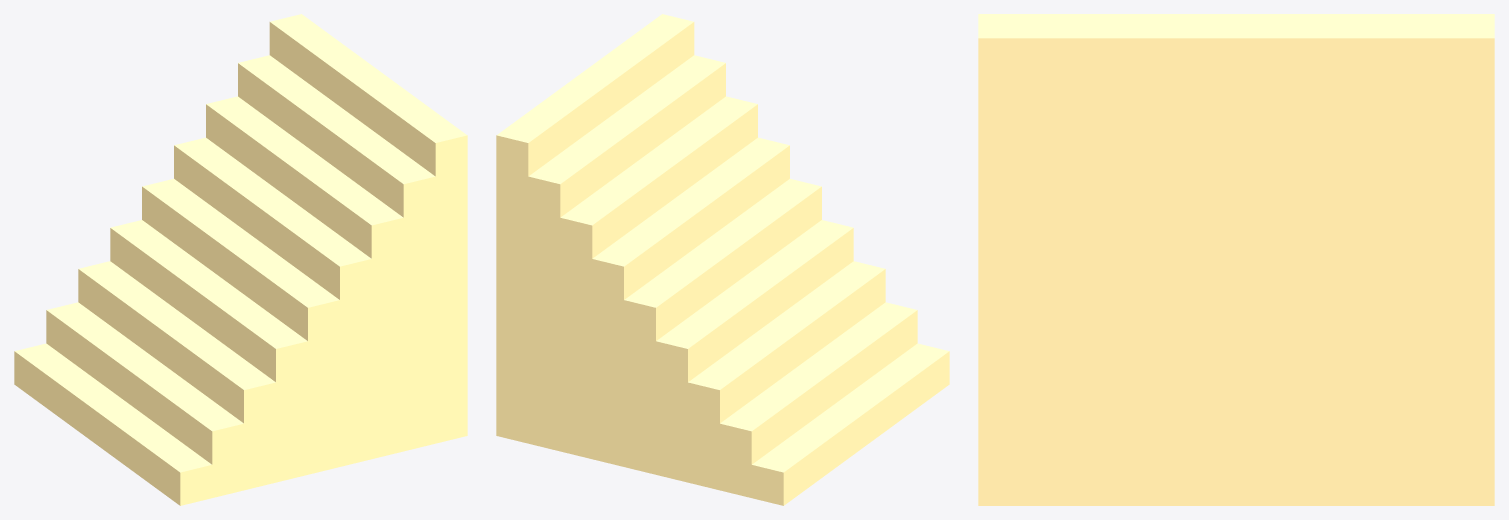
File: steps_extra_large.glb
3 renders of one model, left to right at view 1: azimuth 30°, elevation 25°; view 2: azimuth 150°, elevation 25°; view 3: azimuth 270°, elevation 25°, orthographic. The views are drawn at different scales.
Parts seen in each view (by area): view 1: StepsExtraLarge_Step8-convcol, StepsExtraLarge_Step7-convcol, StepsExtraLarge_Step6-convcol, StepsExtraLarge_Step5-convcol, StepsExtraLarge_Step4-convcol, StepsExtraLarge_Step3-convcol, StepsExtraLarge_Step2-convcol, StepsExtraLarge_Step1-convcol, StepsExtraLarge_Step0-convcol; view 2: StepsExtraLarge_Step8-convcol, StepsExtraLarge_Step7-convcol, StepsExtraLarge_Step6-convcol, StepsExtraLarge_Step5-convcol, StepsExtraLarge_Step4-convcol, StepsExtraLarge_Step3-convcol, StepsExtraLarge_Step2-convcol, StepsExtraLarge_Step1-convcol, StepsExtraLarge_Step0-convcol; view 3: StepsExtraLarge_Step8-convcol.
Part boxes in pixels (box(x1,y1,x2,y2)): StepsExtraLarge_Step8-convcol: box(269, 14, 467, 443); StepsExtraLarge_Step7-convcol: box(238, 55, 435, 451); StepsExtraLarge_Step6-convcol: box(206, 96, 403, 458); StepsExtraLarge_Step5-convcol: box(174, 137, 371, 466); StepsExtraLarge_Step4-convcol: box(142, 179, 339, 474); StepsExtraLarge_Step3-convcol: box(110, 220, 307, 482); StepsExtraLarge_Step2-convcol: box(78, 261, 275, 490); StepsExtraLarge_Step1-convcol: box(46, 302, 243, 497); StepsExtraLarge_Step0-convcol: box(14, 343, 212, 505); StepsExtraLarge_Step8-convcol: box(496, 14, 694, 443); StepsExtraLarge_Step7-convcol: box(528, 55, 725, 451); StepsExtraLarge_Step6-convcol: box(560, 96, 757, 458); StepsExtraLarge_Step5-convcol: box(592, 137, 789, 466); StepsExtraLarge_Step4-convcol: box(624, 179, 821, 474); StepsExtraLarge_Step3-convcol: box(656, 220, 853, 482); StepsExtraLarge_Step2-convcol: box(688, 261, 885, 490); StepsExtraLarge_Step1-convcol: box(720, 302, 917, 497); StepsExtraLarge_Step0-convcol: box(751, 343, 949, 505); StepsExtraLarge_Step8-convcol: box(978, 14, 1494, 505).
Bounding box in the file's own units: 12.15 × 12.15 × 12.15.
